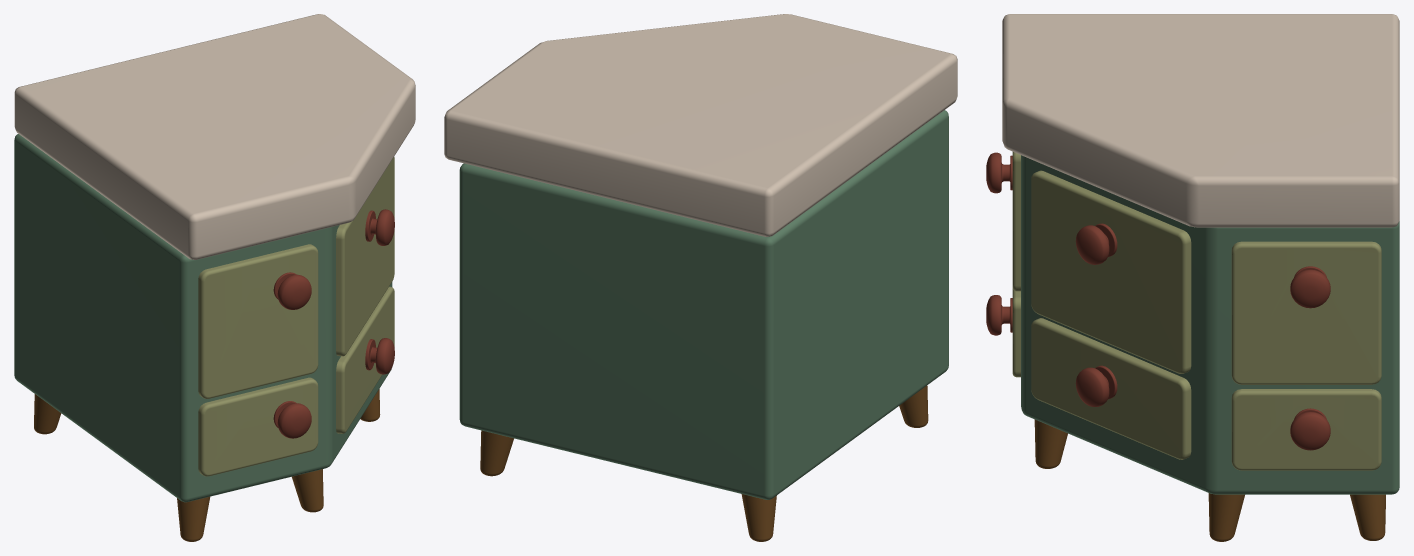
Rendered from SM_Kitchen_Cabinet_F.fbx.
3 views of the same model, side by side, from view 1: azimuth 30°, elevation 25°; view 2: azimuth 150°, elevation 25°; view 3: azimuth 270°, elevation 25° (orthographic). The views are drawn at different scales.
Parts seen in each view (by area): view 1: Cube.039, SM_Kitchen_Cabinet_F, Cube.038, Cube.040, SM_Shelf_Dresser_A_Drawer_01.009, Cylinder.013; view 2: SM_Kitchen_Cabinet_F, Cube.039, Cylinder.013; view 3: Cube.039, Cube.040, Cube.041, SM_Kitchen_Cabinet_F, SM_Shelf_Dresser_A_Drawer_01.009, Cylinder.013, Cube.038.
Part boxes in pixels (left/top/right/bottom): Cube.039: left=14, top=14, right=415, bottom=259; SM_Kitchen_Cabinet_F: left=14, top=134, right=392, bottom=502; Cube.038: left=198, top=244, right=318, bottom=476; Cube.040: left=336, top=157, right=394, bottom=433; SM_Shelf_Dresser_A_Drawer_01.009: left=273, top=209, right=394, bottom=438; Cylinder.013: left=34, top=389, right=380, bottom=541; SM_Kitchen_Cabinet_F: left=459, top=110, right=948, bottom=499; Cube.039: left=444, top=14, right=957, bottom=236; Cylinder.013: left=480, top=385, right=928, bottom=541; Cube.039: left=1002, top=14, right=1399, bottom=227; Cube.040: left=1031, top=170, right=1191, bottom=459; Cube.041: left=1231, top=241, right=1381, bottom=470; SM_Kitchen_Cabinet_F: left=1021, top=155, right=1399, bottom=494; SM_Shelf_Dresser_A_Drawer_01.009: left=986, top=152, right=1330, bottom=450; Cylinder.013: left=1034, top=419, right=1385, bottom=541; Cube.038: left=1012, top=152, right=1020, bottom=377.
Size of what is drawn, in the model's own units: 109 by 110 by 109.
